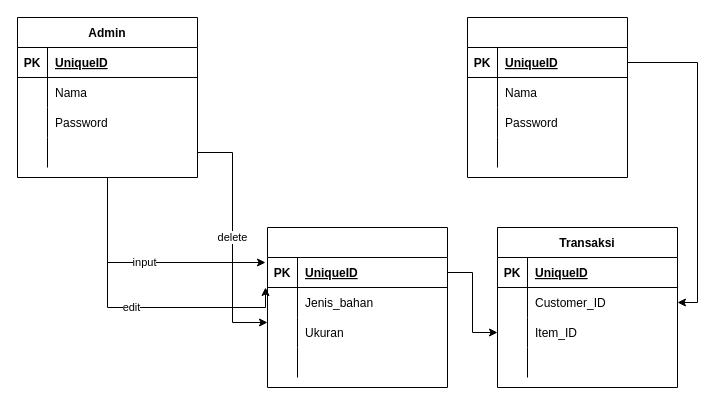
The diagram is 723 pixels wide and 405 high, and some of its shapes have lost their labels. The shapes that lost their labels are listed below. From the top down, each one's box as (x1, y1, x2, y2) in pixels, then its label:
(466, 16, 628, 178): Customer
(266, 226, 448, 388): Item
